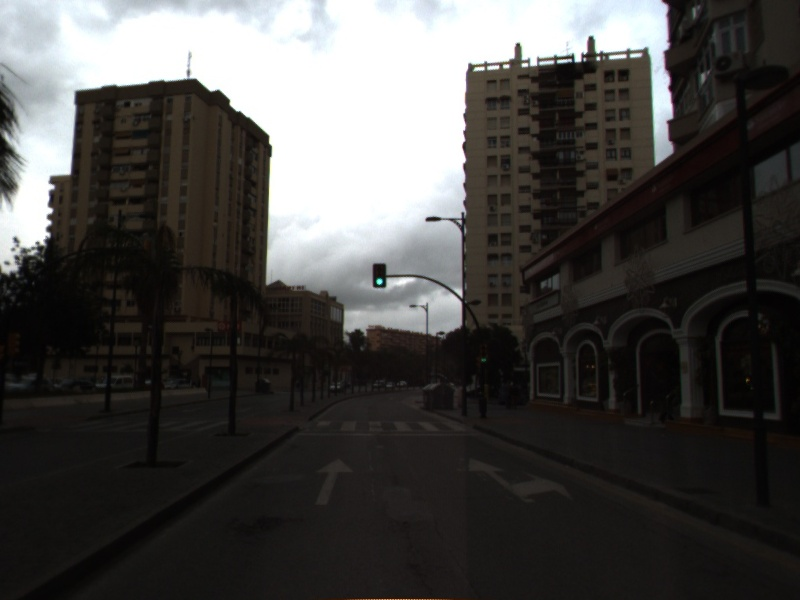STRAIGHT: (311, 454, 357, 507)
STRAIGHT_RIGHT: (465, 454, 576, 505)
